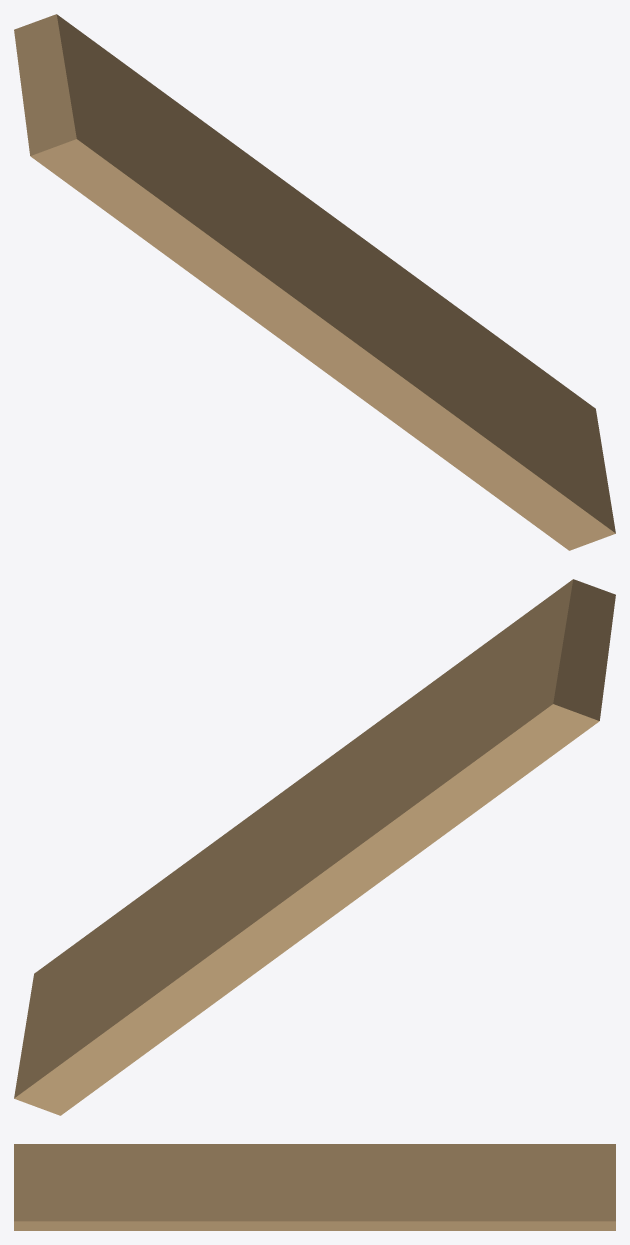
3 views of the same model, one above another, from view 1: azimuth 30°, elevation 25°; view 2: azimuth 150°, elevation 25°; view 3: azimuth 270°, elevation 25° (orthographic). The views are drawn at different scales.
Parts seen in each view (by area): view 1: 0_1_2_0_3_1_2_0_2_2_3; view 2: 0_1_2_0_3_1_2_0_2_2_3; view 3: 0_1_2_0_3_1_2_0_2_2_3.
Boxes of the visible parts, <box> form: 0_1_2_0_3_1_2_0_2_2_3: <box>14,14,615,550</box>; 0_1_2_0_3_1_2_0_2_2_3: <box>14,579,615,1115</box>; 0_1_2_0_3_1_2_0_2_2_3: <box>14,1144,615,1230</box>.
Bounding box in the file's own units: 1.82 × 3.75 × 27.
